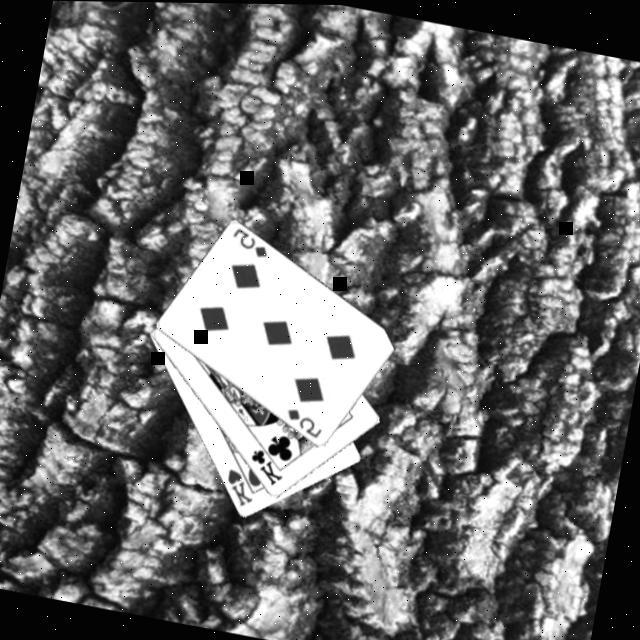5D: (224, 224, 272, 262), (278, 404, 325, 442)
KC: (242, 436, 288, 489)
KH: (216, 465, 258, 511)
